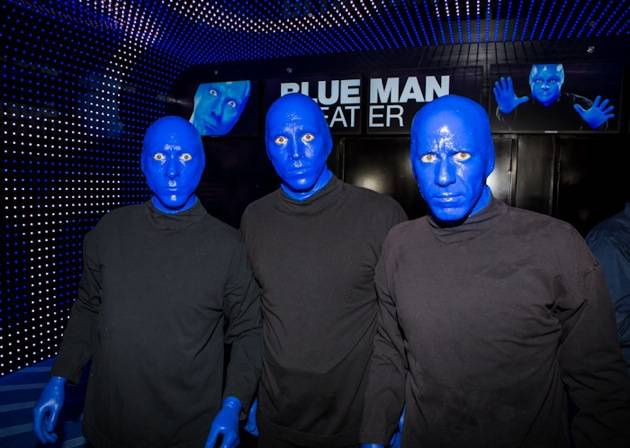bad: (411, 138, 486, 213), (142, 142, 204, 205), (266, 122, 328, 184), (187, 84, 239, 136), (529, 70, 565, 106)
